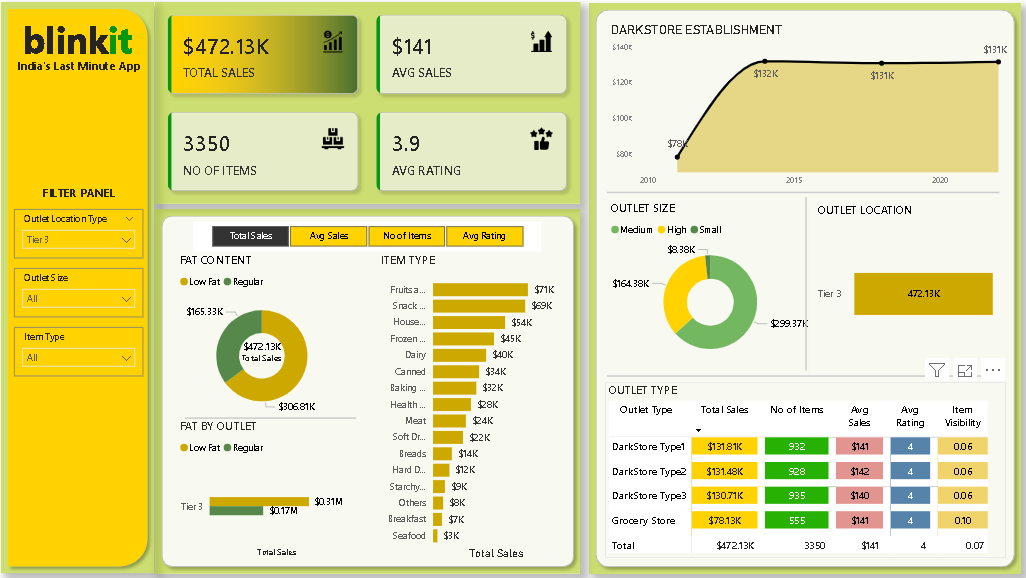

This screenshot's page, from the dashboard's own definition file:
{"tool":"powerbi","page":{"name":"Page 1","canvas":[1400,800],"ordinal":0},"visuals":[{"type":"shape","box":[16.7,25.6,205.1,764.1],"z":0},{"type":"textbox","box":[31.1,36.7,175.6,76.7],"z":1000},{"type":"textbox","box":[28,95.1,184.1,36.6],"z":2000},{"type":"cardVisual","fields":{"Data":["BlinkIT Grocery Data.Total Sales","BlinkIT Grocery Data.Avg Sales","BlinkIT Grocery Data.No of Items","BlinkIT Grocery Data.Avg Rating"]},"box":[221.7,25,570,270],"z":3000},{"type":"shape","box":[228.2,289.7,555.1,500],"z":4000},{"type":"donutChart","title":"FAT CONTENT","fields":{"Y":["BlinkIT Grocery Data.Total Sales"],"Category":["BlinkIT Grocery Data.Item Fat Content"]},"box":[250,359.4,229.7,229.7],"z":5000},{"type":"slicer","fields":{"Values":["Metrices.Metrices"]},"box":[273.4,318.8,465.6,40.6],"z":6000},{"type":"cardVisual","fields":{"Data":["BlinkIT Grocery Data.Total Sales"]},"box":[314.1,460.3,101.3,60.3],"z":7000},{"type":"clusteredBarChart","title":"FAT BY OUTLET","fields":{"Y":["BlinkIT Grocery Data.Total Sales"],"Category":["BlinkIT Grocery Data.Outlet Location Type"],"Series":["BlinkIT Grocery Data.Item Fat Content"]},"box":[250,581.7,229.3,190.2],"z":8000},{"type":"shape","box":[261.5,569.2,229.5,24.4],"z":9000},{"type":"shape","box":[1090.3,301.6,12.9,225.8],"z":10000},{"type":"barChart","title":"ITEM TYPE","fields":{"Y":["BlinkIT Grocery Data.Total Sales"],"Category":["BlinkIT Grocery Data.Item Type"]},"box":[519.2,360.3,250,415.4],"z":11000},{"type":"shape","box":[804.8,37.1,575.8,753.2],"z":12000},{"type":"lineChart","title":"DARKSTORE ESTABLISHMENT","fields":{"Category":["BlinkIT Grocery Data.Outlet Establishment Year"],"Y":["BlinkIT Grocery Data.Total Sales"]},"box":[827.1,52.5,540.7,227.1],"z":13000},{"type":"shape","box":[827.1,274.6,525.4,11.9],"z":14000},{"type":"donutChart","title":"OUTLET SIZE","fields":{"Y":["BlinkIT Grocery Data.Total Sales"],"Category":["BlinkIT Grocery Data.Outlet Size"]},"box":[827.1,289.8,276.3,225.4],"z":15000},{"type":"shape","box":[1086.4,286.4,13.6,232.2],"z":16000},{"type":"funnel","title":"OUTLET LOCATION","fields":{"Y":["Sum(BlinkIT Grocery Data.Sales)"],"Category":["BlinkIT Grocery Data.Outlet Location Type"]},"box":[1103.4,293.2,249.2,225.4],"z":17000},{"type":"shape","box":[827.1,518.6,525.4,13.6],"z":18000},{"type":"pivotTable","title":"OUTLET TYPE","fields":{"Rows":["BlinkIT Grocery Data.Outlet Type"],"Values":["BlinkIT Grocery Data.Total Sales","BlinkIT Grocery Data.No of Items","BlinkIT Grocery Data.Avg Sales","BlinkIT Grocery Data.Avg Rating","Avg(BlinkIT Grocery Data.Item Visibility)"]},"box":[823.7,533.9,537.3,235.6],"z":19000},{"type":"slicer","fields":{"Values":["BlinkIT Grocery Data.Outlet Location Type"]},"box":[33.9,301.7,172.9,66.1],"z":19001},{"type":"slicer","fields":{"Values":["BlinkIT Grocery Data.Outlet Size"]},"box":[32.9,381.7,173.2,65.9],"z":19002},{"type":"slicer","fields":{"Values":["BlinkIT Grocery Data.Item Type"]},"box":[32.9,459.8,173.2,65.9],"z":19003},{"type":"textbox","box":[34.1,264.6,172,36.6],"z":19004}]}

Visuals, with their boxes in screenshot pixels (x1, y1, x2, y2), scaled from the page's 1400x800 canvas onto the 1026x578 screenshot:
shape: bbox(12, 18, 163, 571)
textbox: bbox(23, 27, 151, 82)
textbox: bbox(21, 69, 155, 95)
cardVisual - BlinkIT Grocery Data.Total Sales x BlinkIT Grocery Data.Avg Sales: bbox(162, 18, 580, 213)
shape: bbox(167, 209, 574, 571)
"FAT CONTENT" donutChart: bbox(183, 260, 352, 426)
slicer - Metrices.Metrices: bbox(200, 230, 542, 260)
cardVisual - BlinkIT Grocery Data.Total Sales: bbox(230, 333, 304, 376)
"FAT BY OUTLET" clusteredBarChart: bbox(183, 420, 351, 558)
shape: bbox(192, 411, 360, 429)
shape: bbox(799, 218, 808, 381)
"ITEM TYPE" barChart: bbox(380, 260, 564, 560)
shape: bbox(590, 27, 1012, 571)
"DARKSTORE ESTABLISHMENT" lineChart: bbox(606, 38, 1002, 202)
shape: bbox(606, 198, 991, 207)
"OUTLET SIZE" donutChart: bbox(606, 209, 809, 372)
shape: bbox(796, 207, 806, 375)
"OUTLET LOCATION" funnel: bbox(809, 212, 991, 375)
shape: bbox(606, 375, 991, 385)
"OUTLET TYPE" pivotTable: bbox(604, 386, 997, 556)
slicer - BlinkIT Grocery Data.Outlet Location Type: bbox(25, 218, 152, 266)
slicer - BlinkIT Grocery Data.Outlet Size: bbox(24, 276, 151, 323)
slicer - BlinkIT Grocery Data.Item Type: bbox(24, 332, 151, 380)
textbox: bbox(25, 191, 151, 218)
